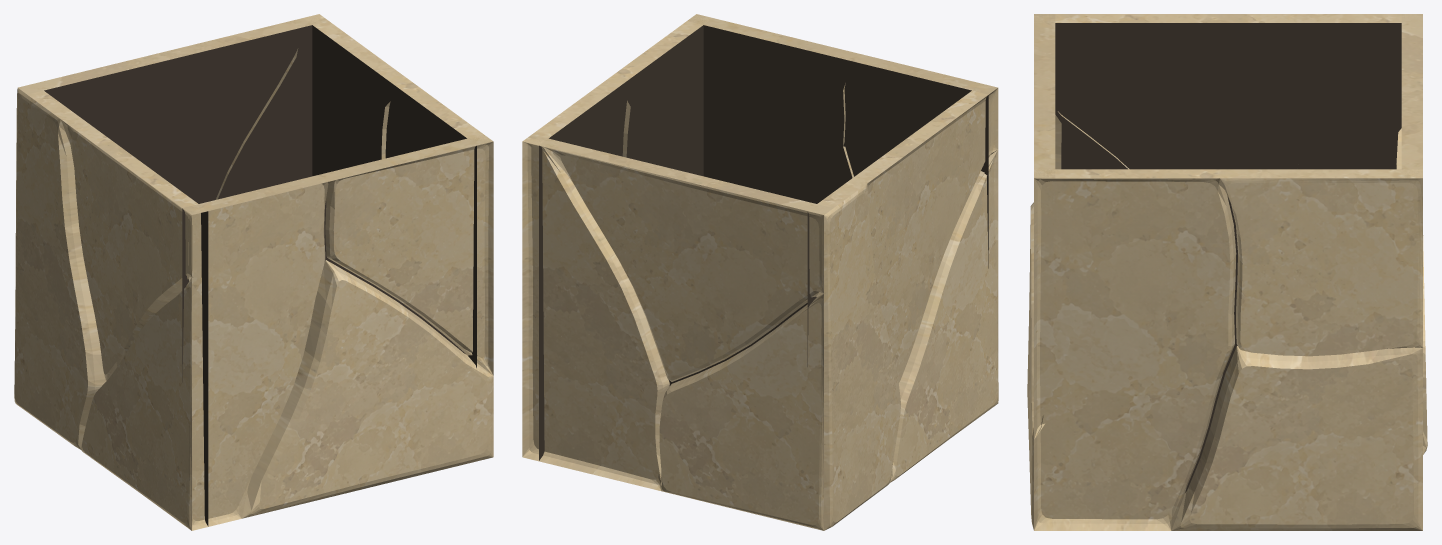
The model's file is ground_square_island_09.glb.
3 renders of one model, left to right at view 1: azimuth 30°, elevation 25°; view 2: azimuth 150°, elevation 25°; view 3: azimuth 270°, elevation 25°, orthographic. The views are drawn at different scales.
Parts seen in each view (by area): view 1: GroundSquareIsland09_Body; view 2: GroundSquareIsland09_Body; view 3: GroundSquareIsland09_Body.
Boxes of the visible parts, x1,y1,x2,y2 form: GroundSquareIsland09_Body: [14, 14, 493, 530]; GroundSquareIsland09_Body: [522, 14, 998, 530]; GroundSquareIsland09_Body: [1027, 14, 1427, 530].
Bounding box in the file's own units: 1.04 × 1 × 1.03.
14 materials, 13 textured.
